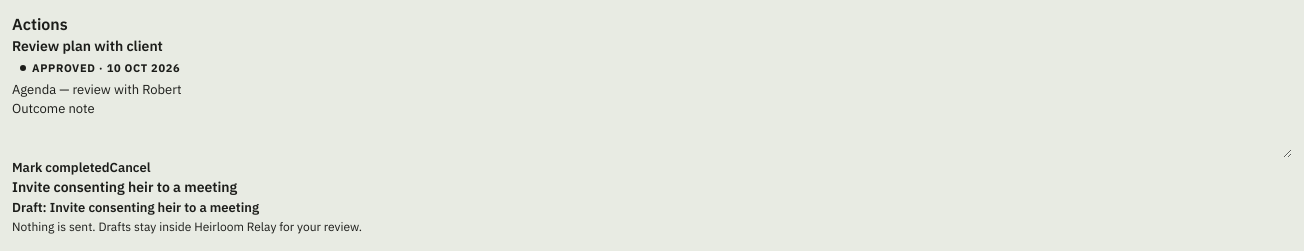
ActionPanel › keeps a carried-over action closed when it is completed on the new insight row
The width and height of the screenshot is (1304, 251).
Expected: the button "Mark completed" is shown, x1=12 y1=158 x2=110 y2=177
Type "Met Robert" into the text box labelled "Outcome note".
click(652, 138); type("Met Robert")  # box x1=12 y1=118 x2=1292 y2=158
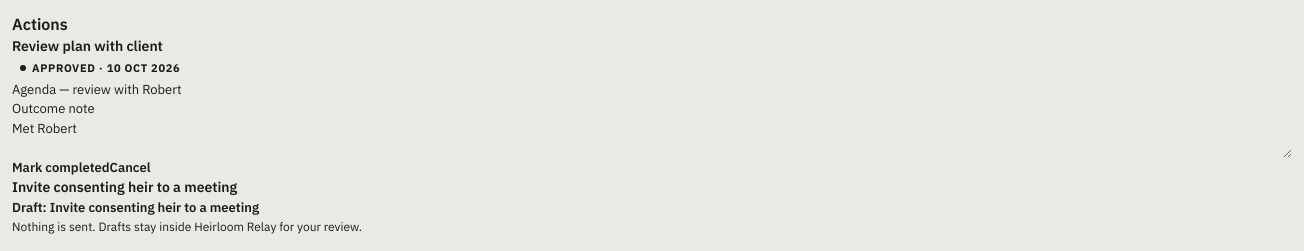
Click the button "Mark completed".
click(61, 167)  # box x1=12 y1=158 x2=110 y2=177
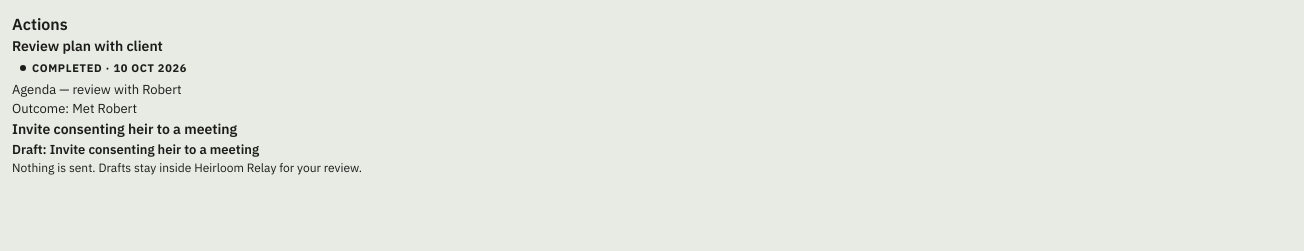
Now the text "Outcome: Met Robert" is shown, box x1=12 y1=99 x2=137 y2=118
